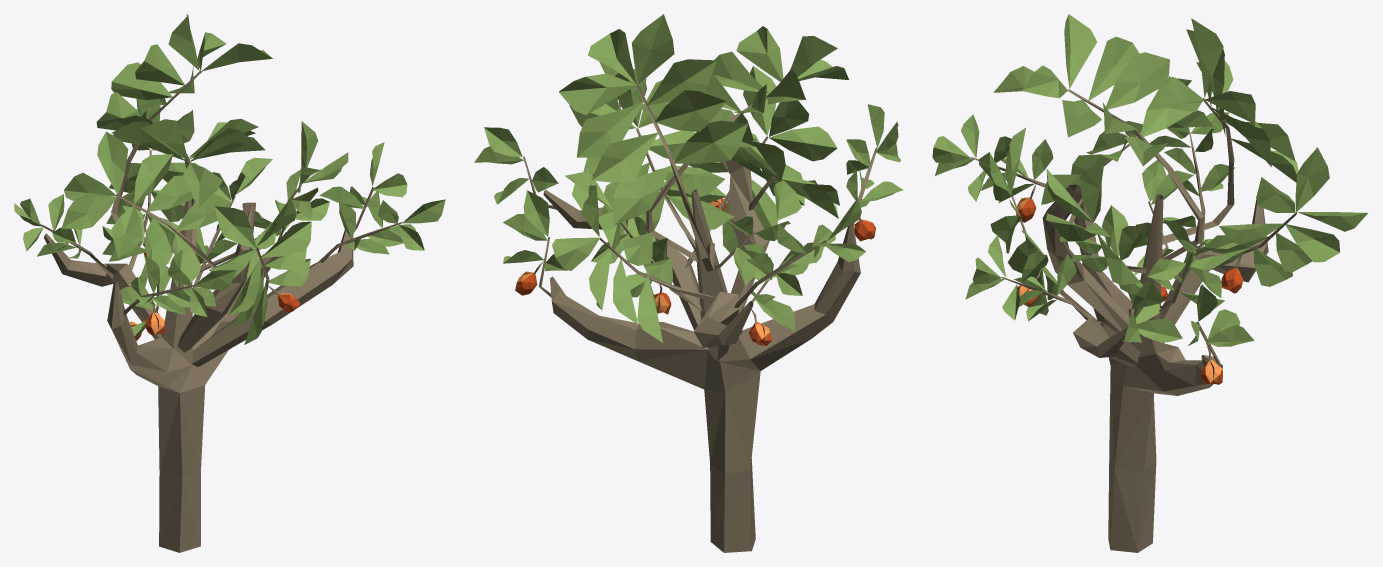
Rendered from Peach_4_4.fbx.
3 renders of one model, left to right at view 1: azimuth 30°, elevation 25°; view 2: azimuth 150°, elevation 25°; view 3: azimuth 270°, elevation 25°, orthographic. The views are drawn at different scales.
Visible parts, largest first — view 1: Peach_4_4; view 2: Peach_4_4; view 3: Peach_4_4.
Boxes of the visible parts, bbox=[...] form: Peach_4_4: bbox=[14, 14, 445, 552]; Peach_4_4: bbox=[474, 14, 903, 552]; Peach_4_4: bbox=[932, 14, 1367, 552].
Bounding box in the file's own units: 446 × 574 × 416.
